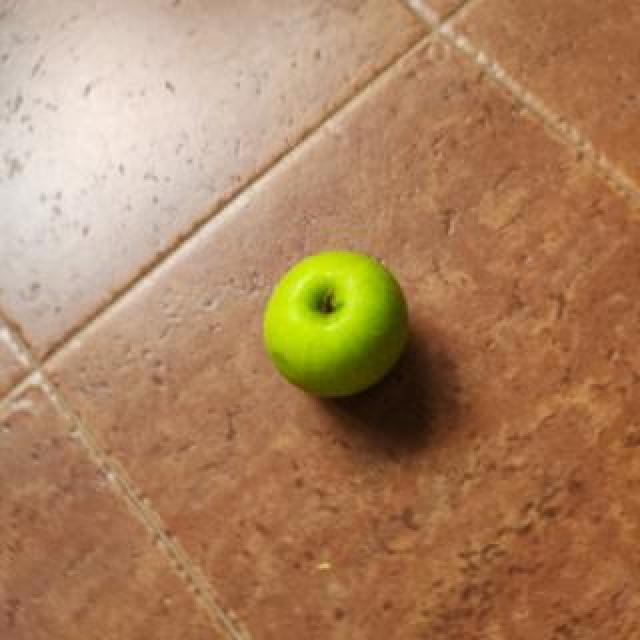Fresh Apple: (265, 254, 411, 404)
